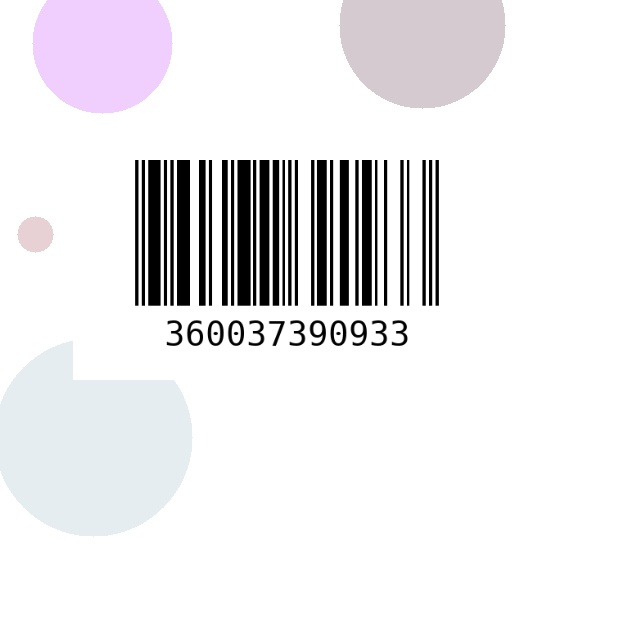barcode: (73, 151, 501, 380)
